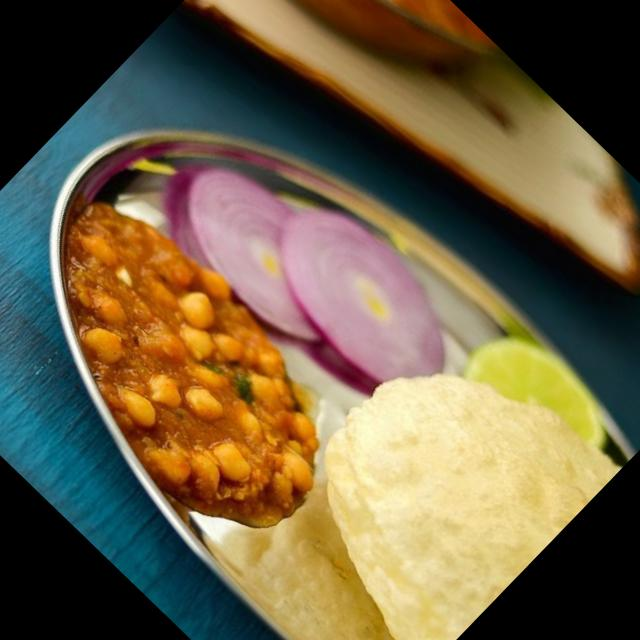Bhatura: (254, 305, 621, 640)
Chole: (0, 175, 375, 565)
